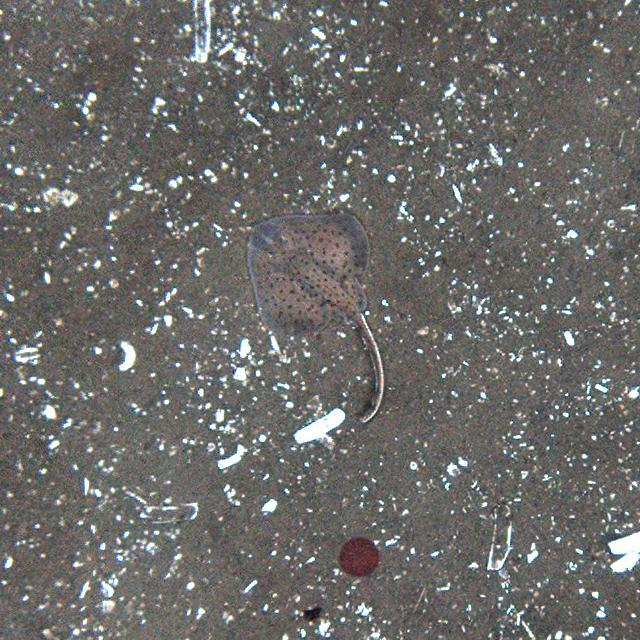skate: (229, 204, 390, 423)
